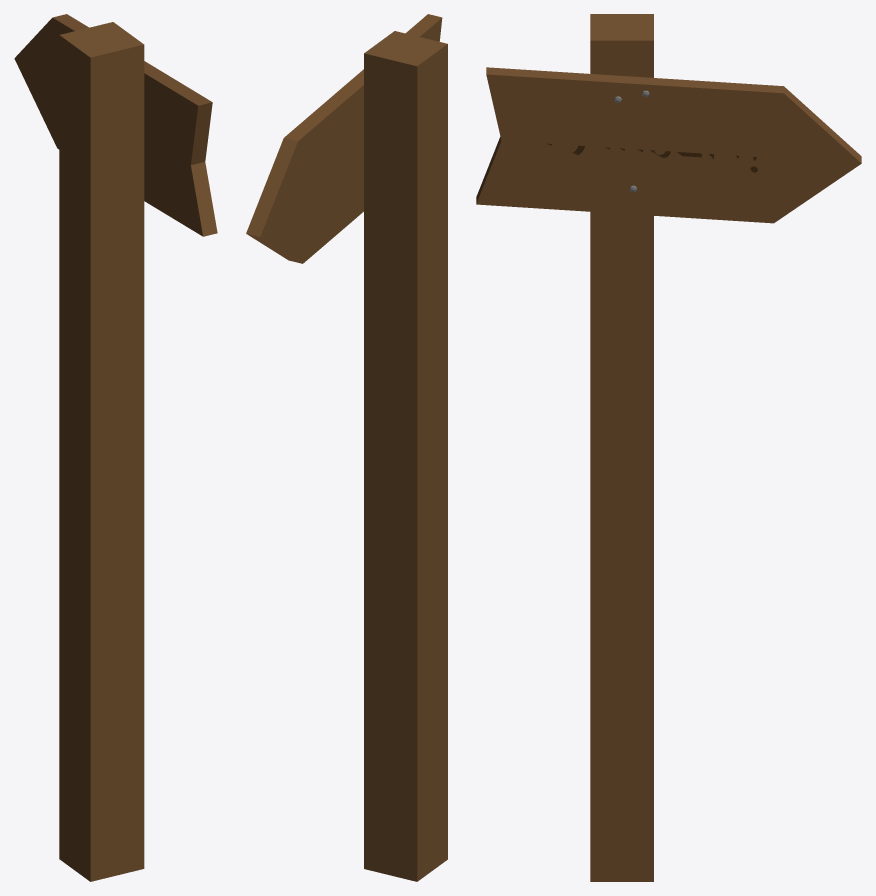
Rendered from arrowsignboard.fbx.
3 renders of one model, left to right at view 1: azimuth 30°, elevation 25°; view 2: azimuth 150°, elevation 25°; view 3: azimuth 270°, elevation 25°, orthographic. The views are drawn at different scales.
Visible parts, largest first — view 1: Cube, Cube.001; view 2: Cube, Cube.001; view 3: Cube, Cube.001.
Part boxes in pixels (bbox=[...]): Cube: bbox=[59, 22, 144, 881]; Cube.001: bbox=[14, 14, 217, 236]; Cube: bbox=[364, 31, 447, 881]; Cube.001: bbox=[246, 14, 442, 263]; Cube: bbox=[590, 14, 653, 881]; Cube.001: bbox=[476, 67, 861, 223].
Bounding box in the file's own units: 136 × 1465 × 608.
